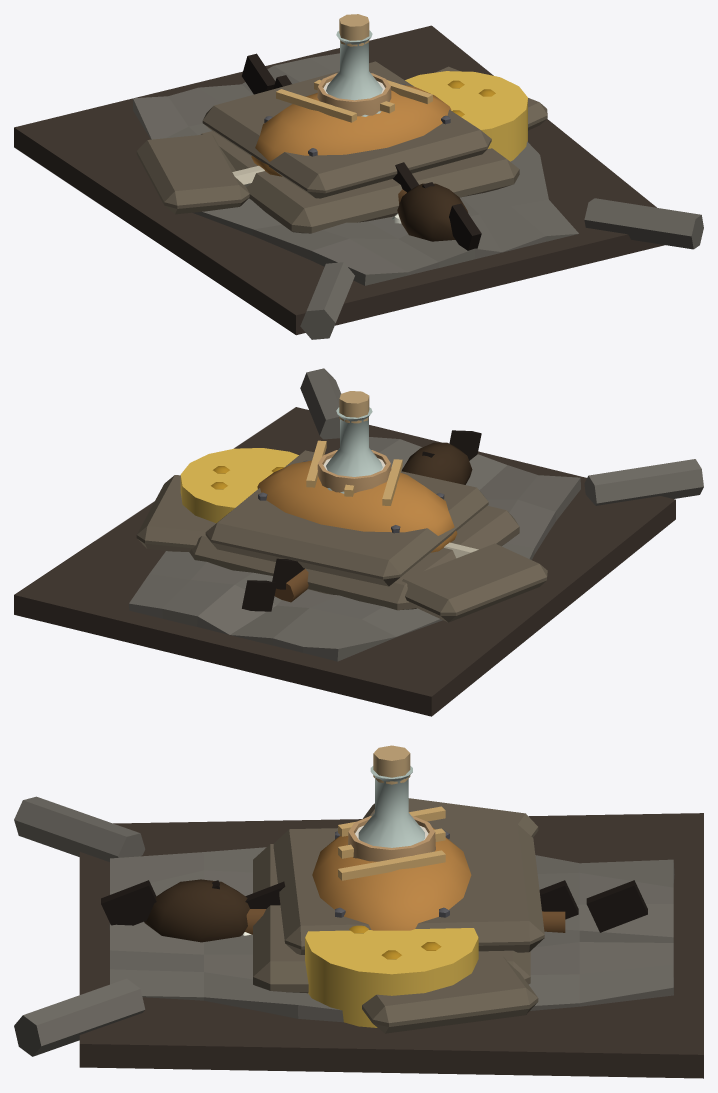
The model's file is items.glb.
3 views of the same model, one above another, from view 1: azimuth 30°, elevation 25°; view 2: azimuth 150°, elevation 25°; view 3: azimuth 270°, elevation 25° (orthographic). The views are drawn at different scales.
Visible parts, largest first — view 1: boar_hide, armor_rags, wolf_pelt, bread, cheese, potion_heal2, torch_item, beer; view 2: boar_hide, armor_rags, wolf_pelt, bread, cheese, potion_heal2, torch_item, beer; view 3: boar_hide, wolf_pelt, armor_rags, cheese, bread, torch_item, potion_heal2, beer.
Part boxes in pixels (x1,y1,x2,y2): boar_hide: [14, 25, 664, 335]; armor_rags: [136, 61, 547, 233]; wolf_pelt: [133, 53, 703, 339]; bread: [251, 79, 451, 176]; cheese: [405, 71, 527, 161]; potion_heal2: [326, 14, 382, 116]; torch_item: [397, 183, 467, 241]; beer: [317, 73, 391, 116]; boar_hide: [14, 407, 675, 716]; armor_rags: [136, 450, 547, 622]; wolf_pelt: [129, 368, 703, 661]; bread: [257, 440, 457, 552]; cheese: [180, 448, 298, 523]; potion_heal2: [326, 391, 382, 493]; torch_item: [274, 442, 472, 602]; beer: [317, 450, 391, 493]; boar_hide: [79, 813, 703, 1078]; wolf_pelt: [14, 796, 674, 1056]; armor_rags: [253, 798, 544, 1033]; cheese: [305, 925, 478, 1027]; bread: [312, 806, 471, 930]; torch_item: [144, 879, 565, 942]; potion_heal2: [358, 745, 424, 847]; beer: [348, 815, 435, 861].
Bounding box in the file's own units: 0.66 × 0.2614 × 0.7958.
